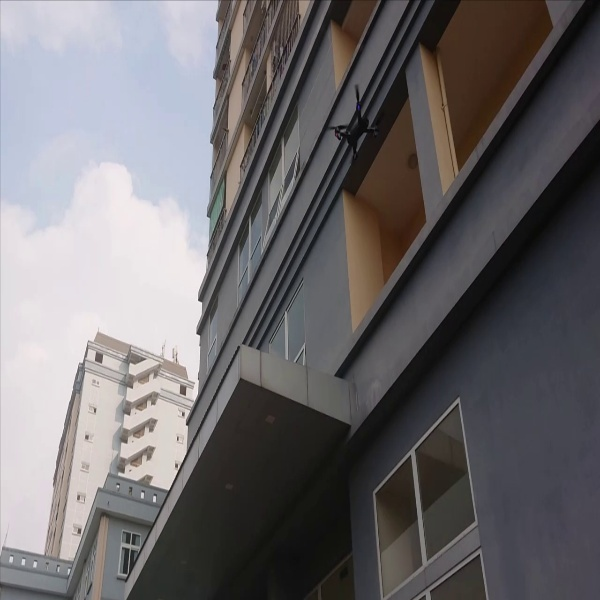drone: (319, 83, 382, 170)
